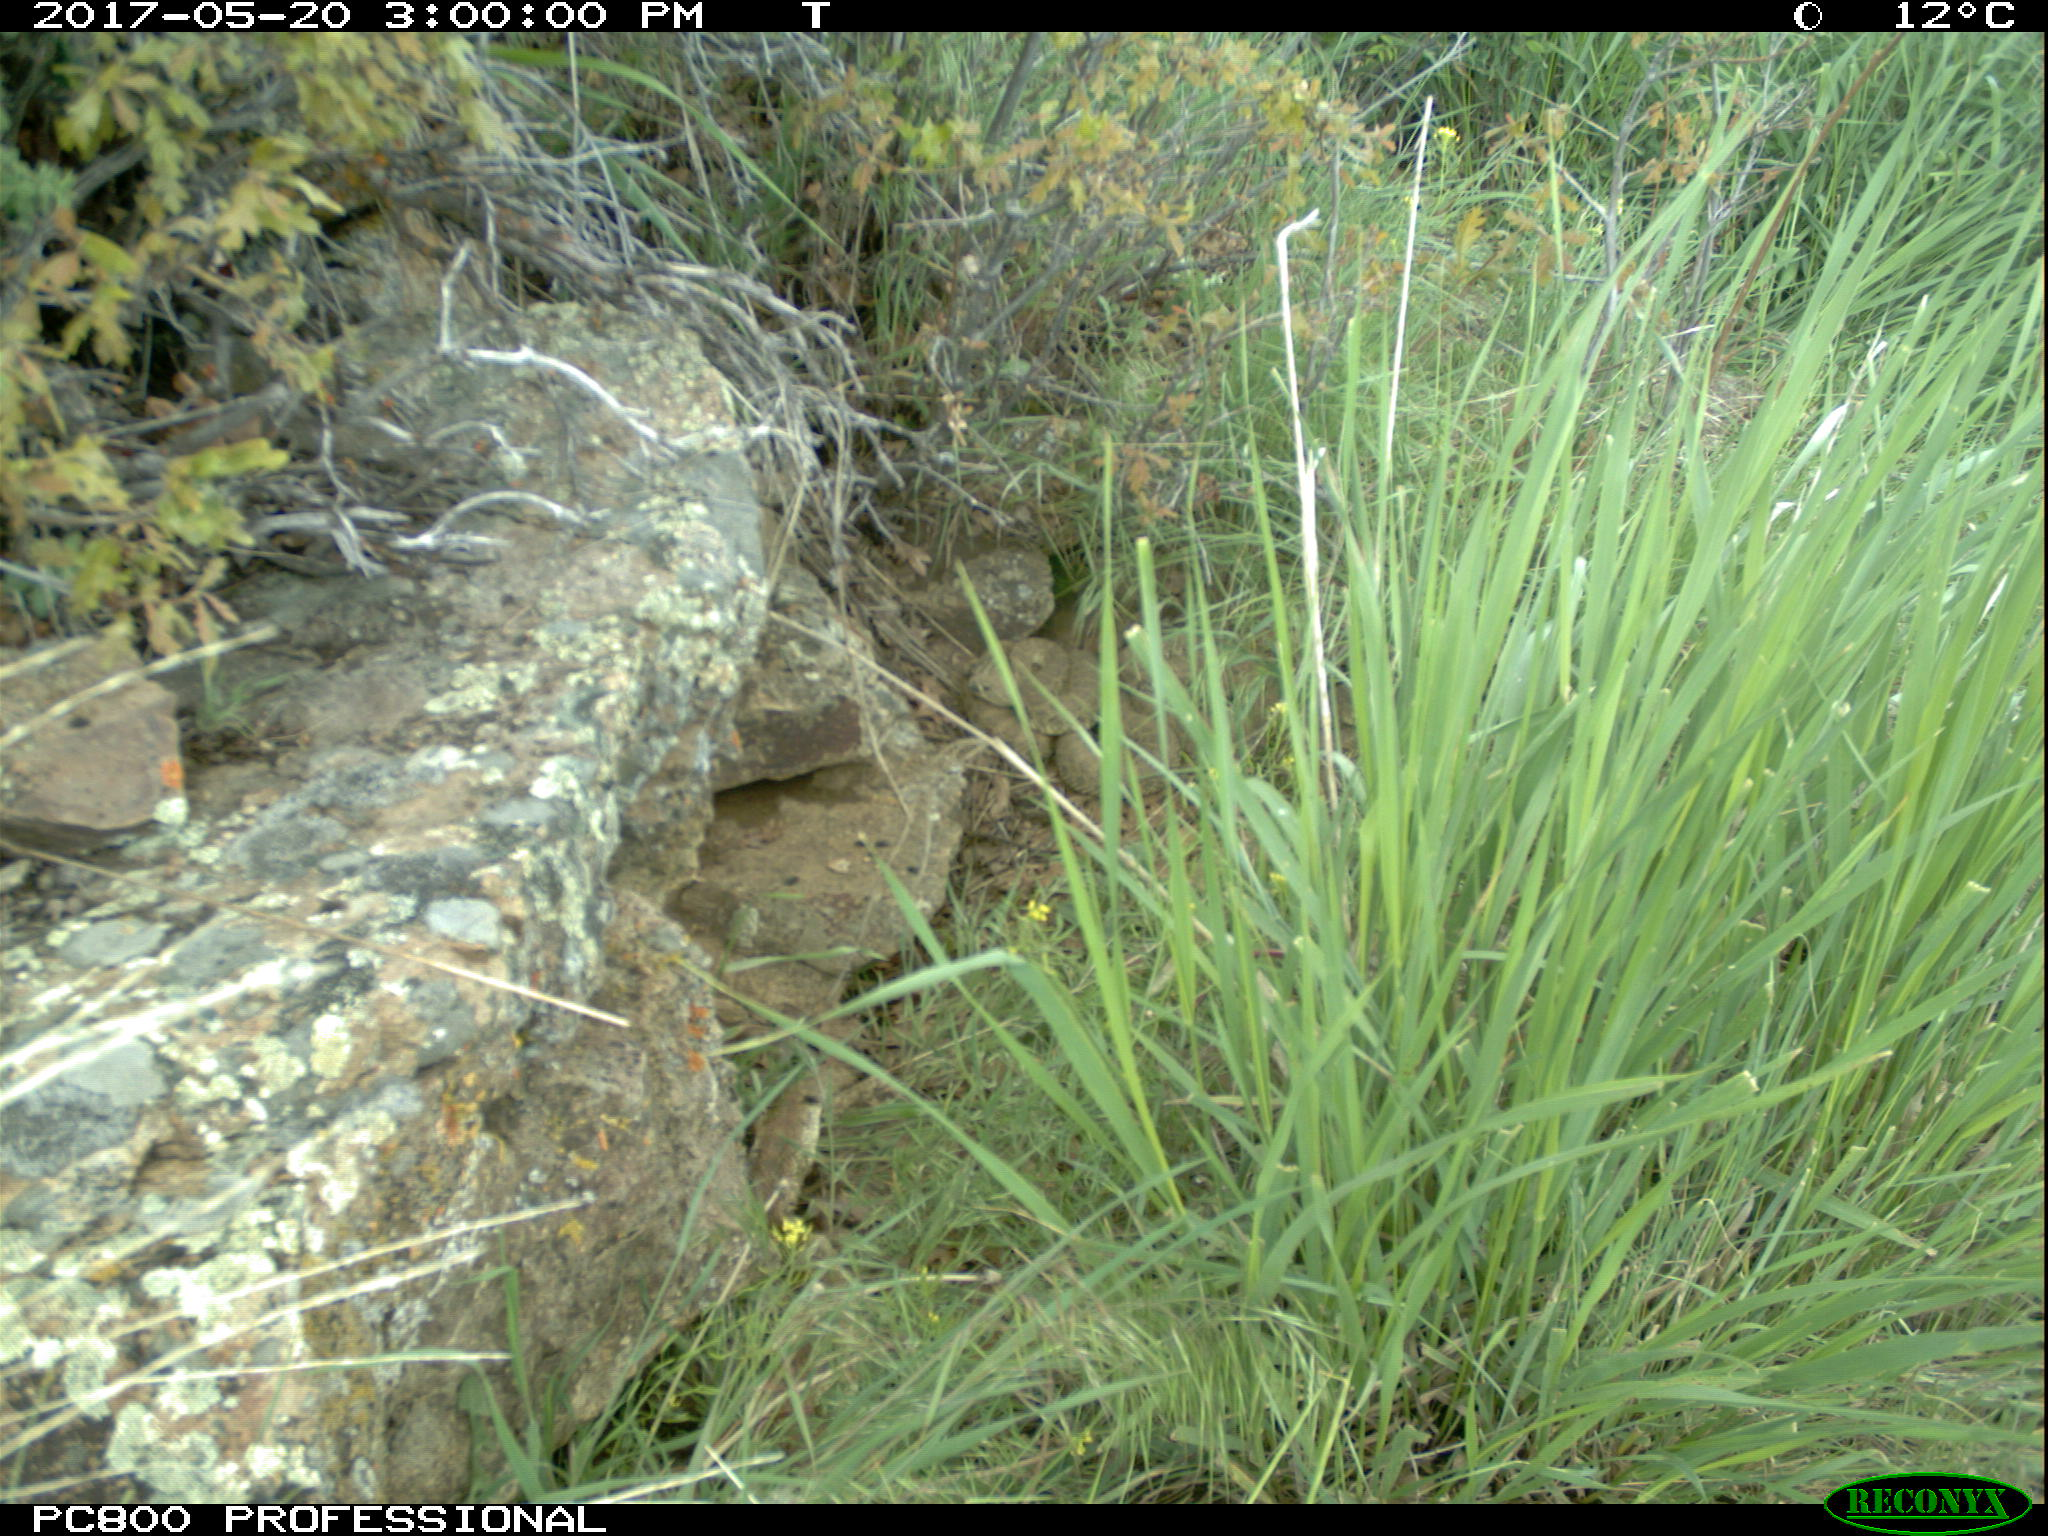snake: (964, 639, 1276, 797), (714, 966, 827, 1226)
